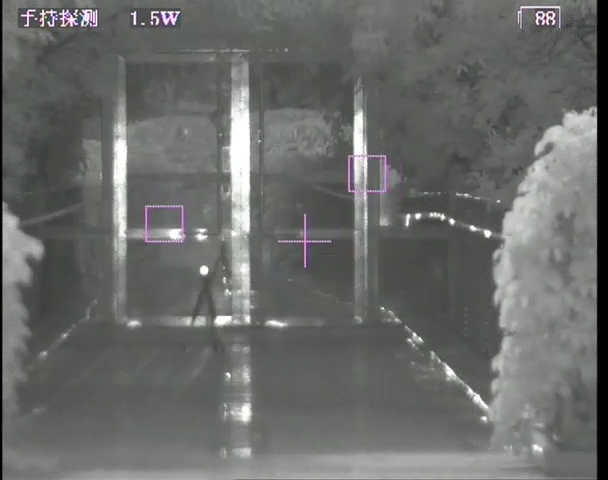my: (198, 264, 210, 276)
